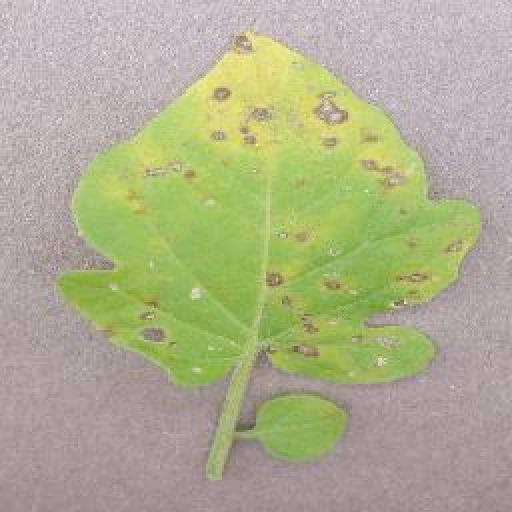disease_tomato: (59, 28, 483, 386)
